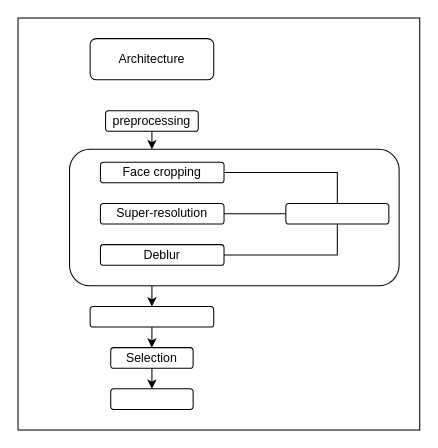
The diagram is 438 pixels wide and 448 high, and some of its shapes have lost their labels. The box of each missing label's shape, as (x1, y1, x2, y2) in pixels:
Classification: (110, 388, 193, 409)
Feature Extraction: (89, 305, 214, 327)
Undecided order: (285, 202, 389, 224)
